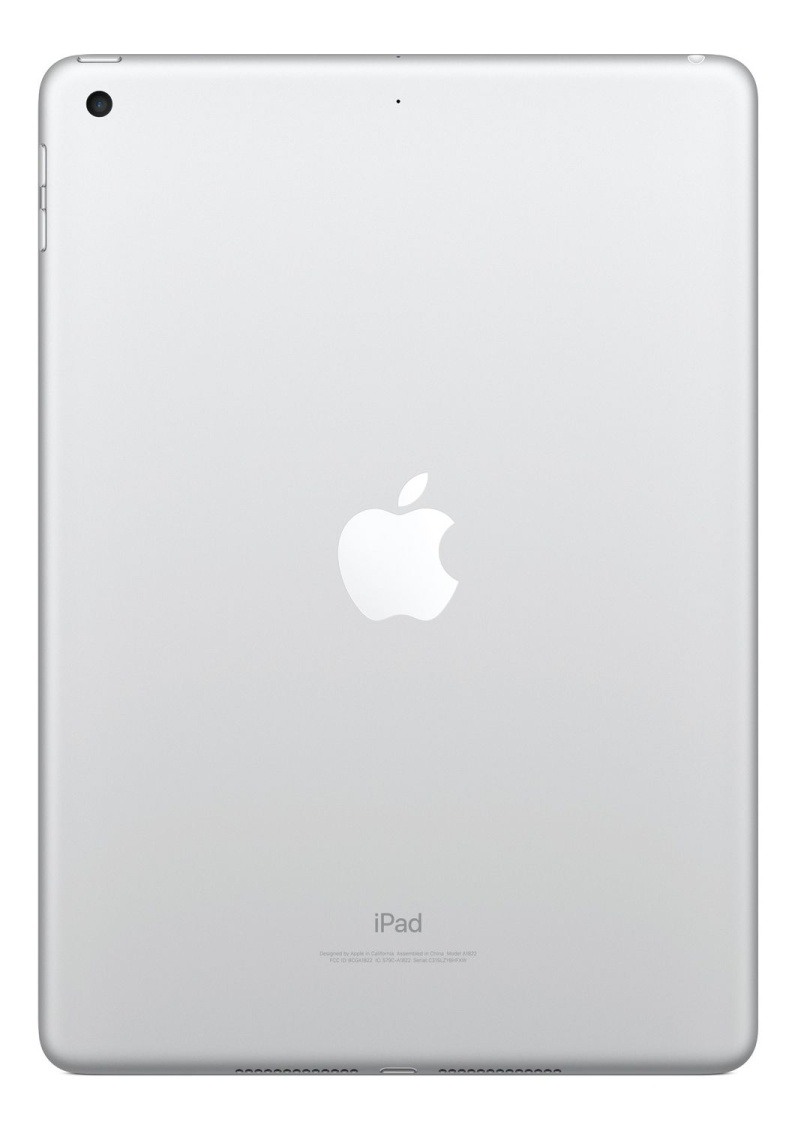apple: (262, 442, 499, 699)
